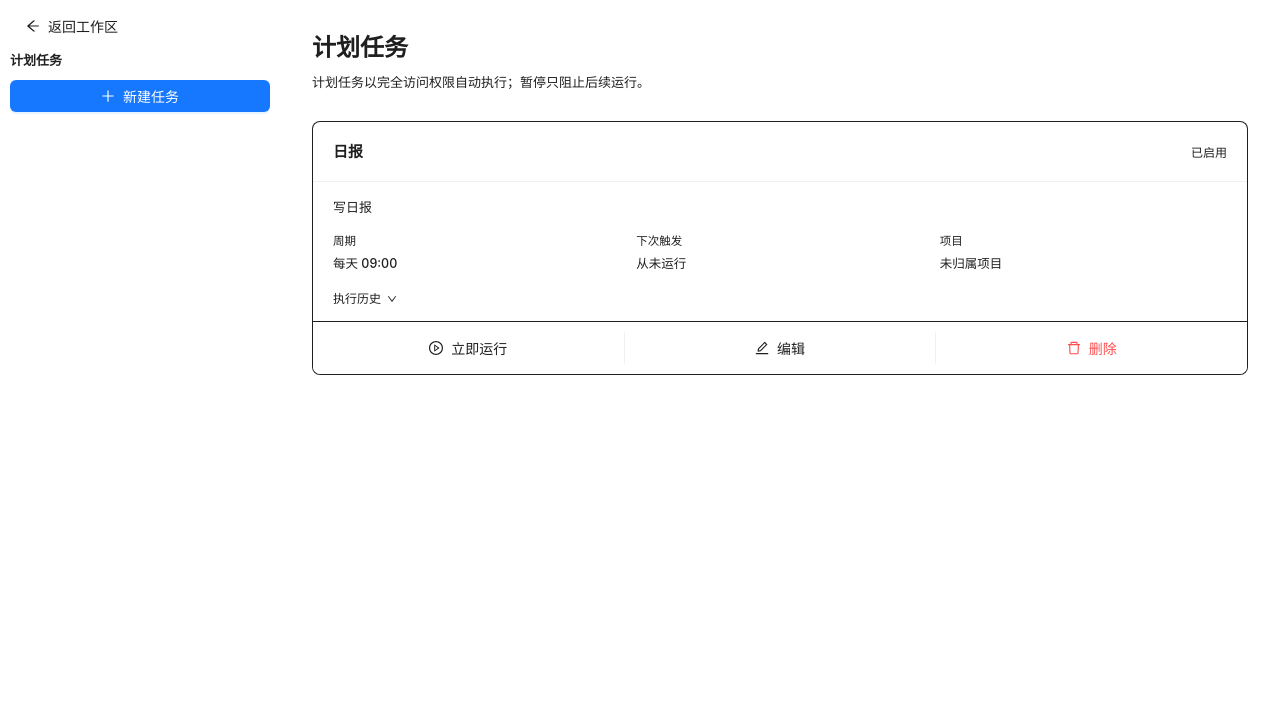
任务页：执行历史 › 整行可点展开（含 Enter/Space），runs 按后端顺序（新的在前）渲染，来源区分定时/手动
The image size is (1280, 720).
Click the button with class "task-row-main" at (353, 207), box [333, 199, 1002, 306]
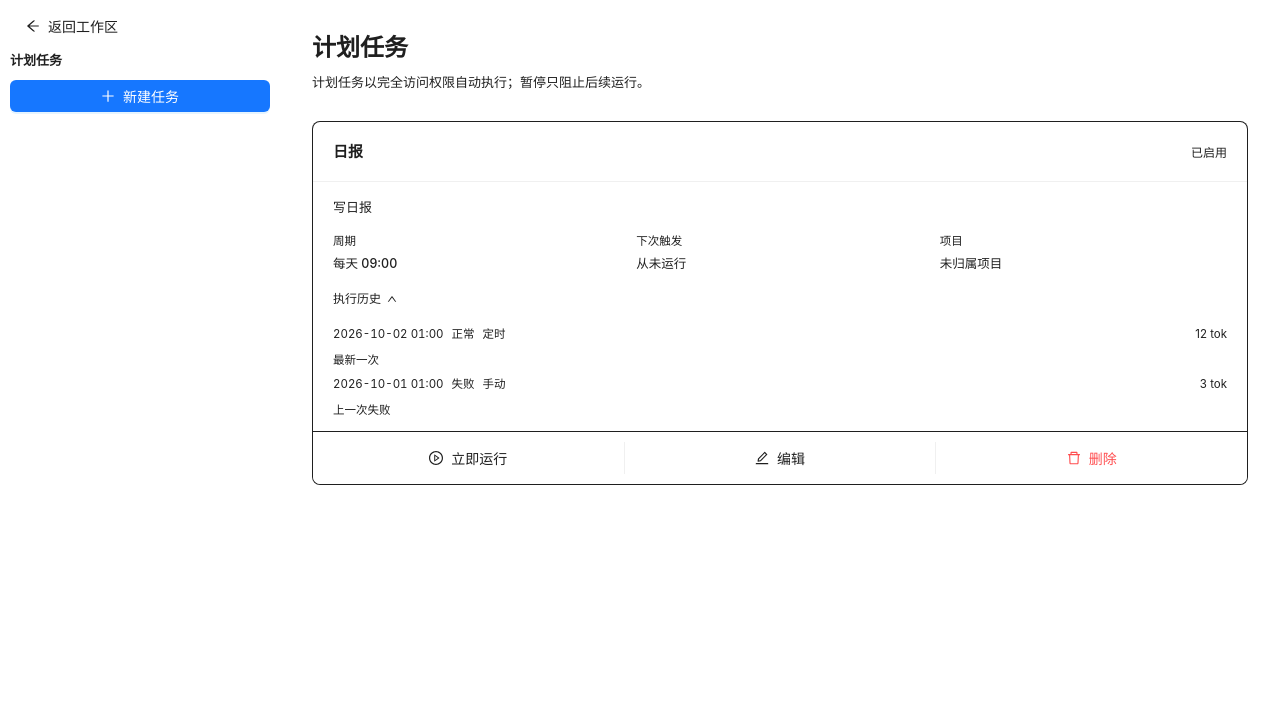
Expected: the button with class "task-row-main" is expanded
Expected: the element with class "tasks-history-row" shows "最新一次", [333, 353, 379, 367]
Expected: the element with class "tasks-history-row" shows "定时", [483, 327, 506, 341]
# 键盘：Enter 收起、Space 再展开
Press Enter in the button with class "task-row-main", box [333, 199, 1002, 306]
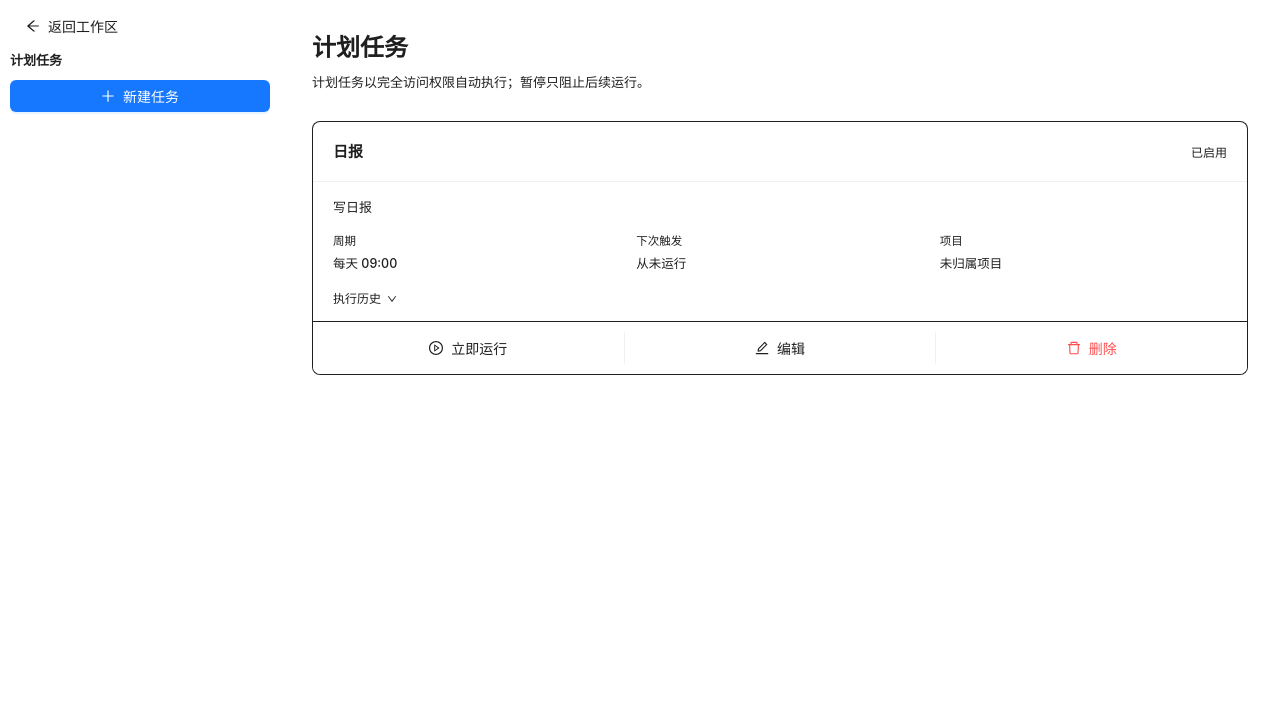
Expected: the button with class "task-row-main" is collapsed
Press Space in the button with class "task-row-main", box [333, 199, 1002, 306]
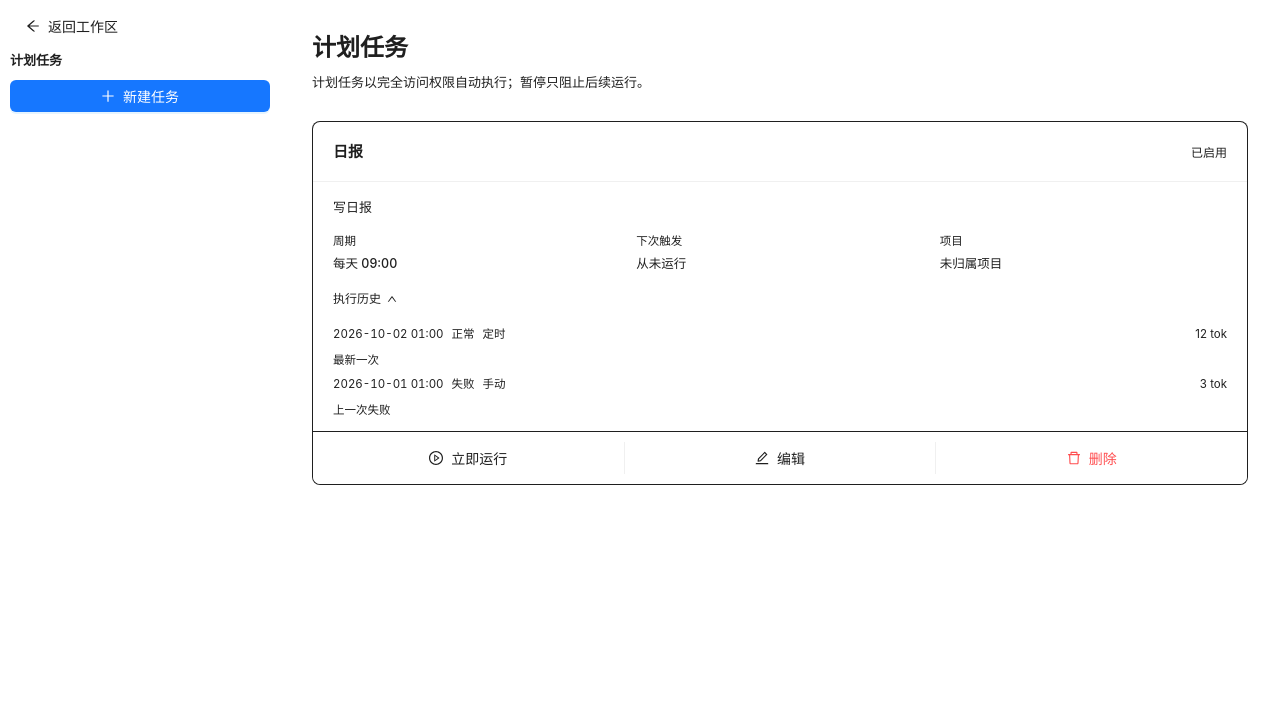
Expected: the button with class "task-row-main" is expanded, [333, 199, 1002, 306]
